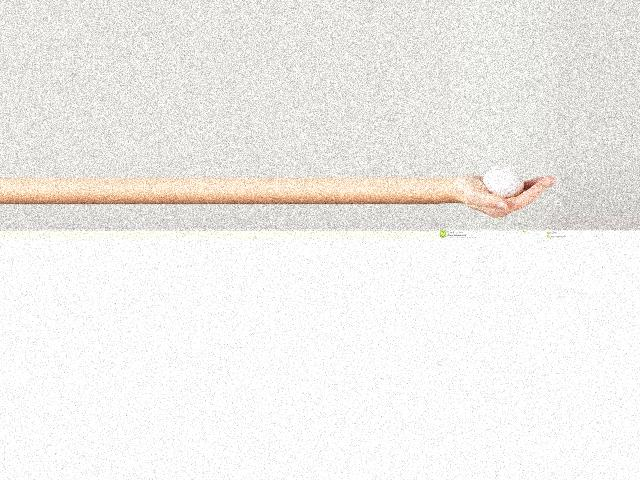egg: (483, 169, 525, 197)
